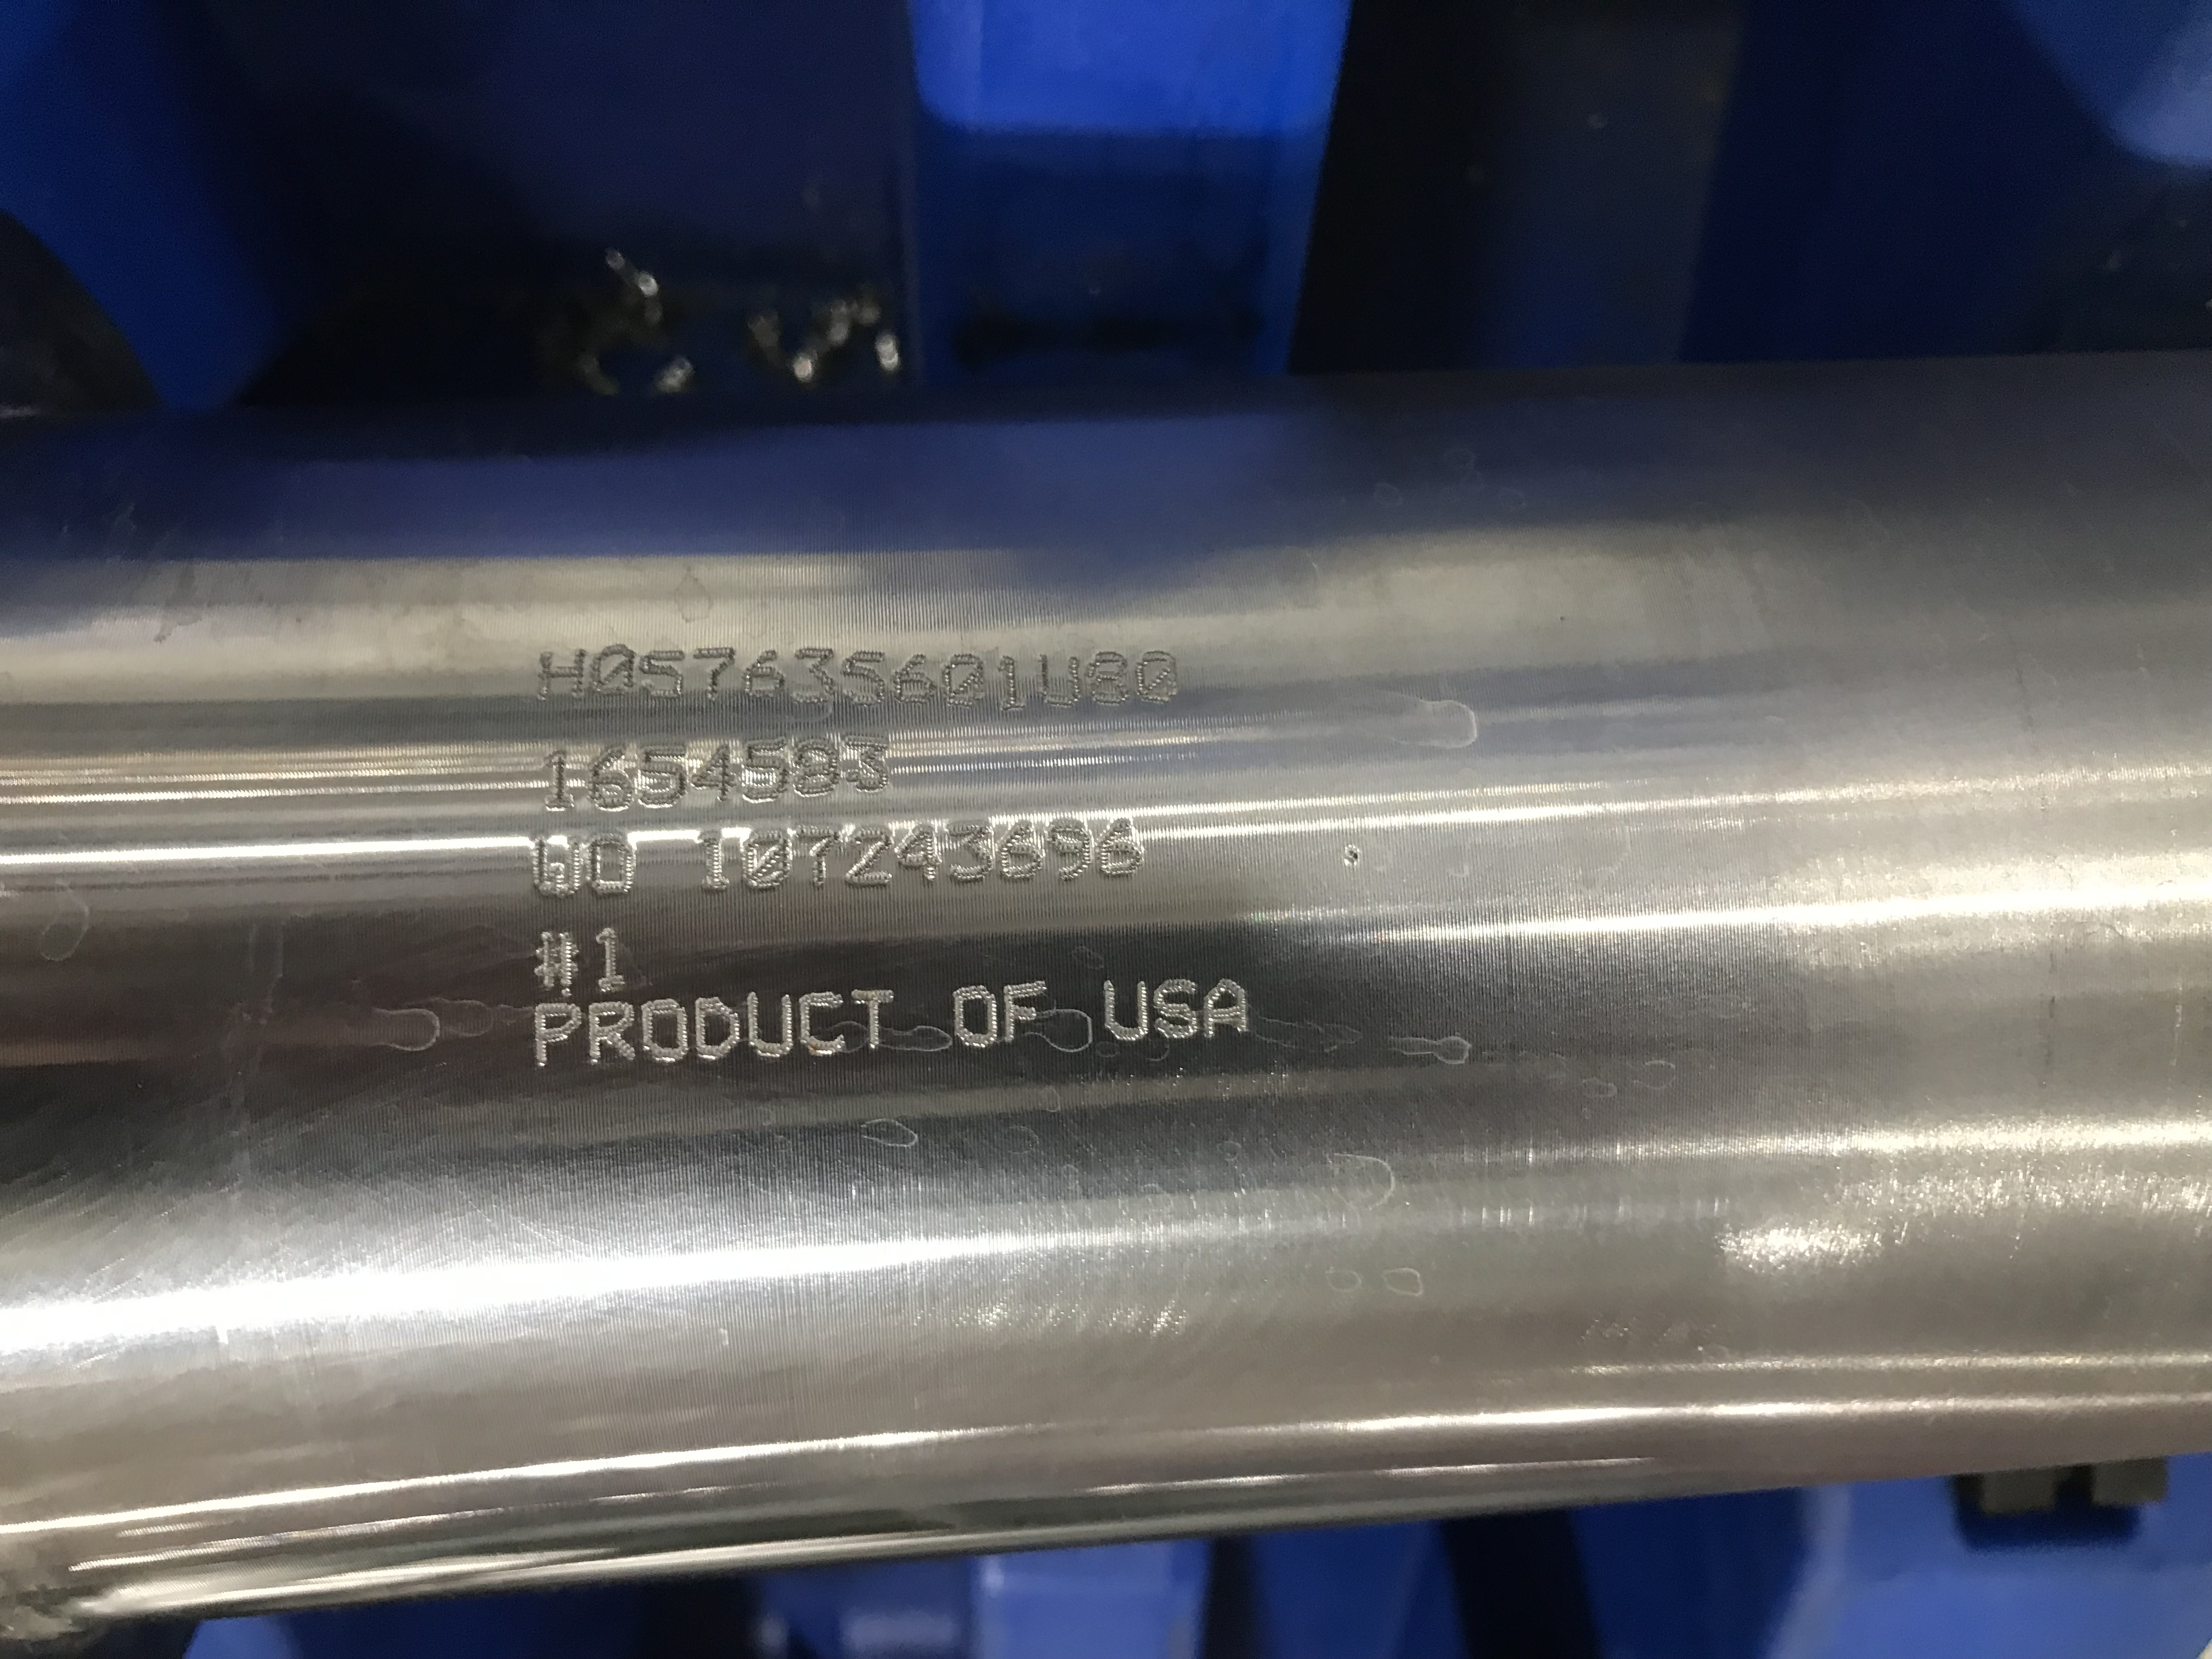character: (528, 826, 585, 908), (1000, 981, 1057, 1061), (585, 735, 637, 823), (582, 997, 641, 1070), (636, 739, 693, 814), (688, 993, 744, 1070), (1198, 972, 1251, 1053), (529, 997, 583, 1073), (782, 640, 840, 711), (942, 817, 995, 894), (792, 986, 845, 1063), (948, 978, 1000, 1054), (737, 734, 792, 805), (744, 988, 794, 1066), (637, 993, 691, 1066), (792, 823, 843, 899), (1094, 814, 1148, 885), (1042, 816, 1094, 889), (587, 831, 643, 899), (531, 922, 583, 993), (529, 645, 589, 708), (1103, 974, 1150, 1053), (744, 826, 794, 897), (846, 983, 895, 1056), (691, 638, 737, 716), (533, 742, 580, 817), (1151, 971, 1198, 1046), (939, 652, 993, 716), (996, 816, 1042, 892), (1080, 647, 1132, 713), (843, 826, 895, 892), (789, 734, 840, 802), (1130, 643, 1184, 706), (900, 816, 946, 889), (641, 645, 693, 708), (838, 645, 887, 711), (892, 645, 939, 713), (843, 730, 895, 791), (1036, 648, 1085, 711), (740, 645, 787, 709), (590, 643, 639, 704), (592, 925, 631, 997), (695, 741, 733, 810), (693, 828, 737, 889), (986, 648, 1022, 720)
